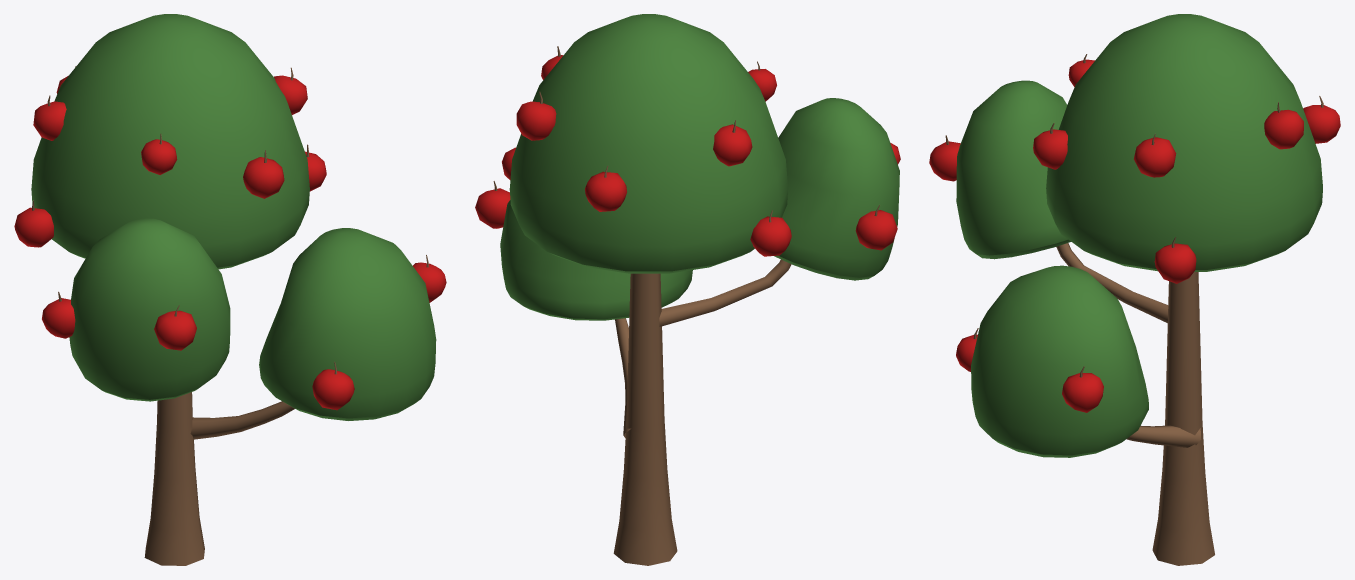
File: SM_tree_apples.fbx
3 renders of one model, left to right at view 1: azimuth 30°, elevation 25°; view 2: azimuth 150°, elevation 25°; view 3: azimuth 270°, elevation 25°, orthographic.
Visible parts, largest first — view 1: Cylinder51272; view 2: Cylinder51272; view 3: Cylinder51272.
Part boxes in pixels (x1=…): Cylinder51272: x1=14, y1=14, x2=446, y2=565; Cylinder51272: x1=475, y1=14, x2=900, y2=565; Cylinder51272: x1=929, y1=14, x2=1340, y2=565.
Size of the model in its own units: 139 by 173 by 122.
